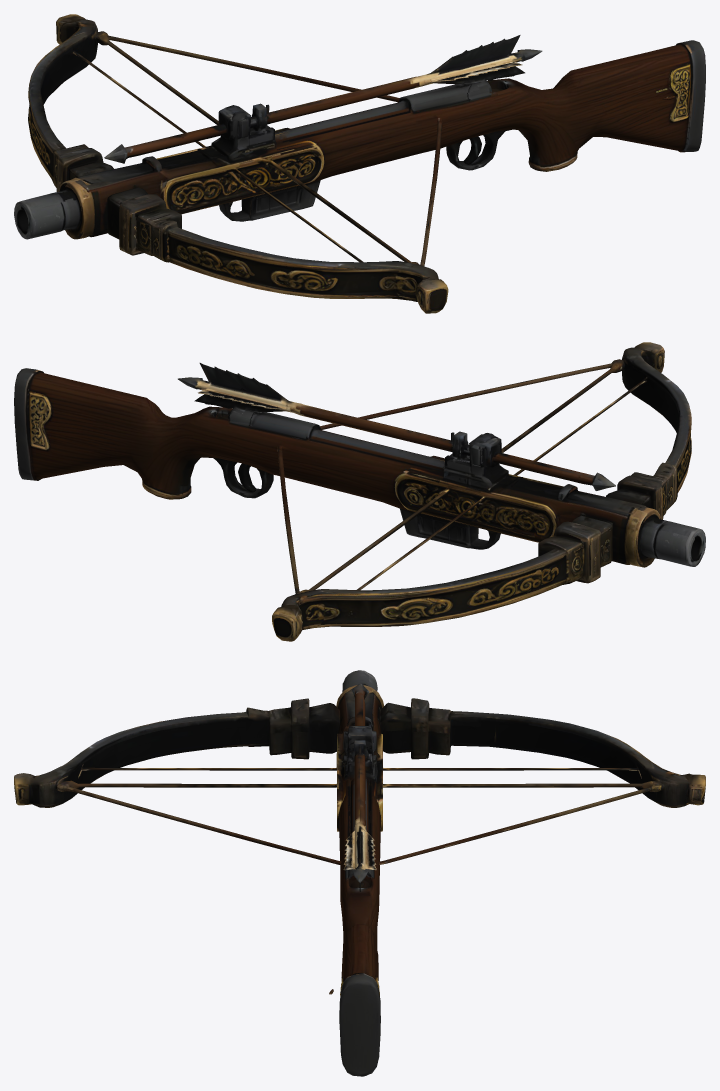
Rendered from zhuihun.glb.
3 views of the same model, one above another, from view 1: azimuth 30°, elevation 25°; view 2: azimuth 150°, elevation 25°; view 3: azimuth 270°, elevation 25° (orthographic). The views are drawn at different scales.
Visible parts, largest first — view 1: convert; view 2: convert; view 3: convert.
Boxes of the visible parts, box(x1,y1,x2,y2) form: convert: box(14, 14, 705, 313); convert: box(14, 342, 705, 641); convert: box(14, 670, 705, 1076).
Size of the model in its own units: 1.18 by 0.2611 by 1.12.
1 material, 1 textured.
